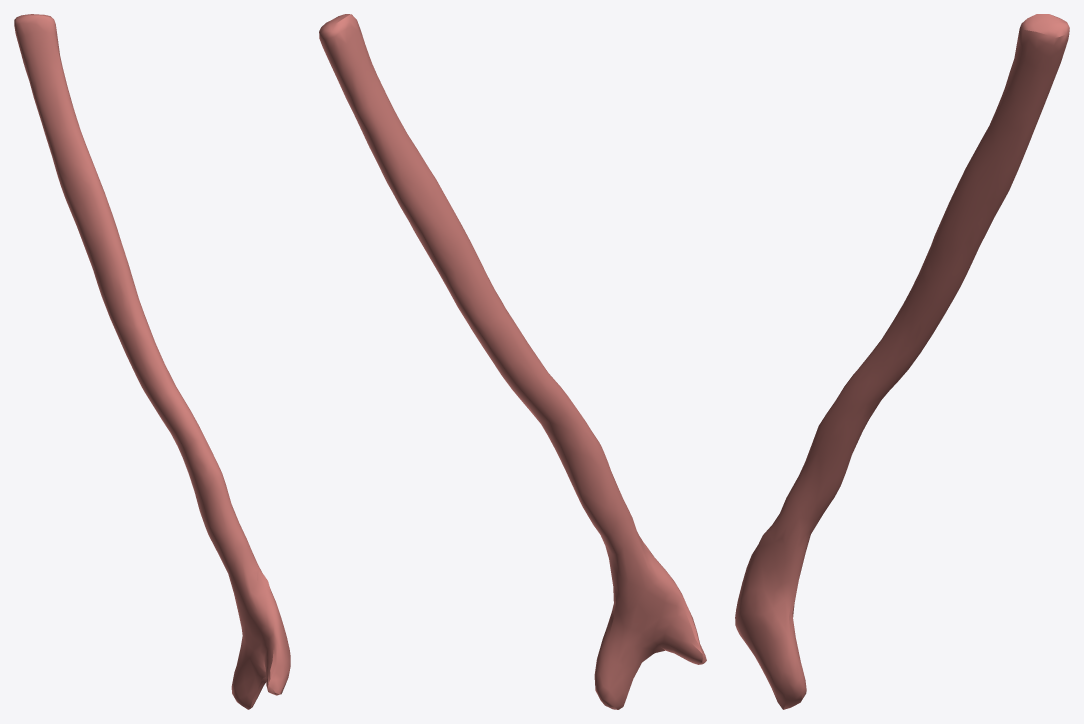
The model's file is fma63413_mm1964.glb.
3 views of the same model, side by side, from view 1: azimuth 90°, elevation 25°; view 2: azimuth 150°, elevation 25°; view 3: azimuth 270°, elevation 25° (orthographic). The views are drawn at different scales.
Parts seen in each view (by area): view 1: FMA63413_MM1964; view 2: FMA63413_MM1964; view 3: FMA63413_MM1964.
Part boxes in pixels (x1,y1,x2,y2): FMA63413_MM1964: [14, 14, 290, 709]; FMA63413_MM1964: [319, 14, 706, 709]; FMA63413_MM1964: [735, 14, 1069, 709].
Size of the model in its own units: 0.0357 by 0.1062 by 0.042.
